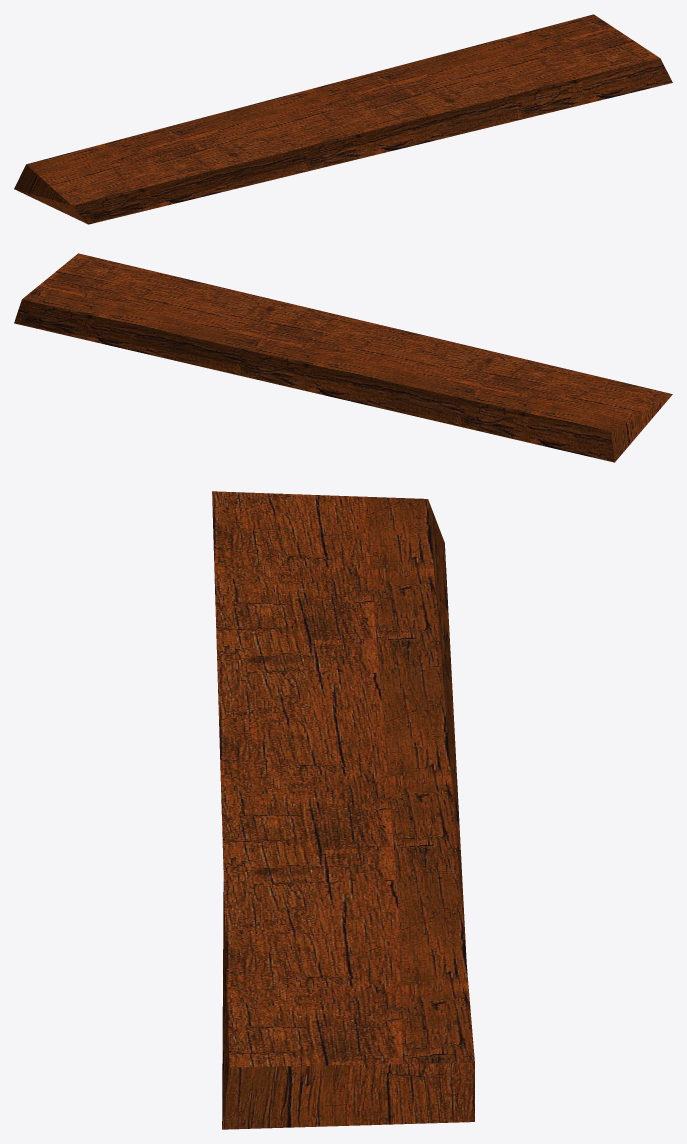
Rendered from DESKA2M.glb.
3 views of the same model, one above another, from view 1: azimuth 30°, elevation 25°; view 2: azimuth 150°, elevation 25°; view 3: azimuth 270°, elevation 25° (orthographic). The views are drawn at different scales.
Parts seen in each view (by area): view 1: DESKA2M; view 2: DESKA2M; view 3: DESKA2M.
Part boxes in pixels (x1=…): DESKA2M: x1=14, y1=14, x2=672, y2=224; DESKA2M: x1=14, y1=253, x2=672, y2=462; DESKA2M: x1=212, y1=491, x2=474, y2=1129.
Size of the model in its own units: 1.83 by 0.0751 by 0.346.
Materials: 1 (1 with a texture image).
